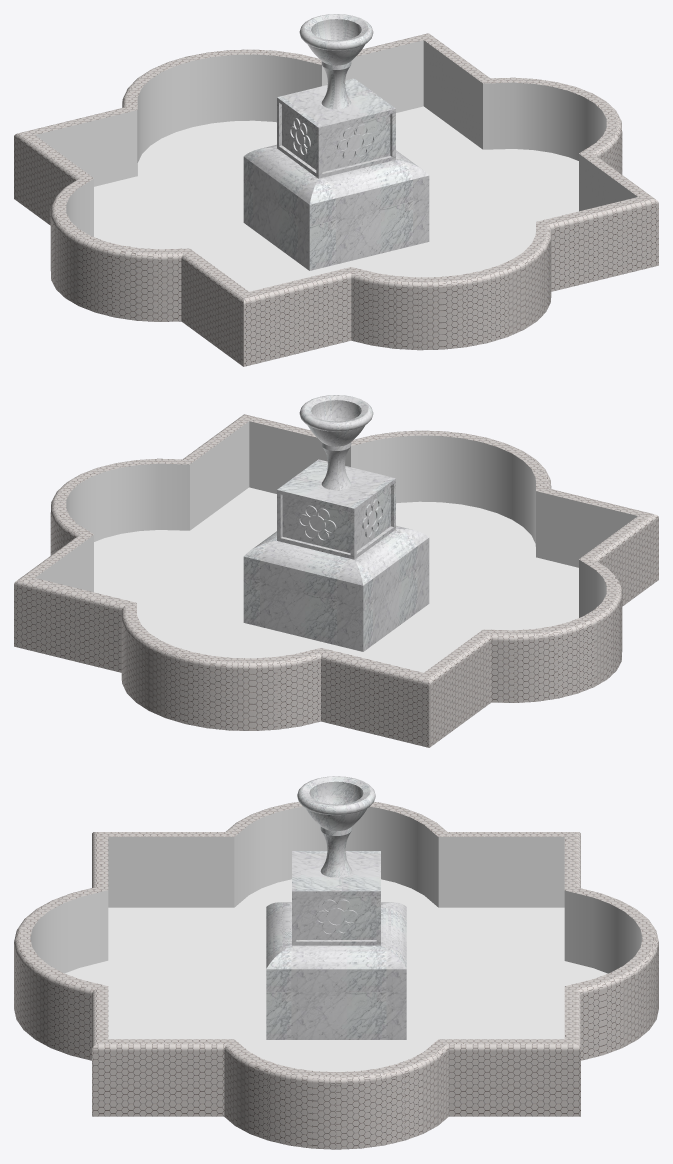
File: çeşme.dae
The picture shows the model from 3 angles, top to bottom: view 1: azimuth 30°, elevation 25°; view 2: azimuth 150°, elevation 25°; view 3: azimuth 270°, elevation 25°; orthographic projection. The views are drawn at different scales.
Visible parts, largest first — view 1: çeşme (×4), group_4 (×3), group_1, group_3 (×2); view 2: çeşme (×4), group_2 (×3), group_1, group_3 (×2); view 3: çeşme (×4), group_0 (×3), group_1.
Part boxes in pixels (left/top/right/bottom): çeşme (×4): left=14, top=33, right=658, bottom=366; group_4 (×3): left=318, top=109, right=395, bottom=178; group_1: left=299, top=14, right=373, bottom=109; group_3 (×2): left=277, top=97, right=318, bottom=178; çeşme (×4): left=14, top=414, right=658, bottom=747; group_2 (×3): left=277, top=490, right=354, bottom=559; group_1: left=299, top=395, right=373, bottom=490; group_3 (×2): left=354, top=478, right=395, bottom=559; çeşme (×4): left=14, top=802, right=658, bottom=1149; group_0 (×3): left=292, top=891, right=380, bottom=945; group_1: left=297, top=776, right=375, bottom=877.
Size of the model in its own units: 337 by 326 by 121.
